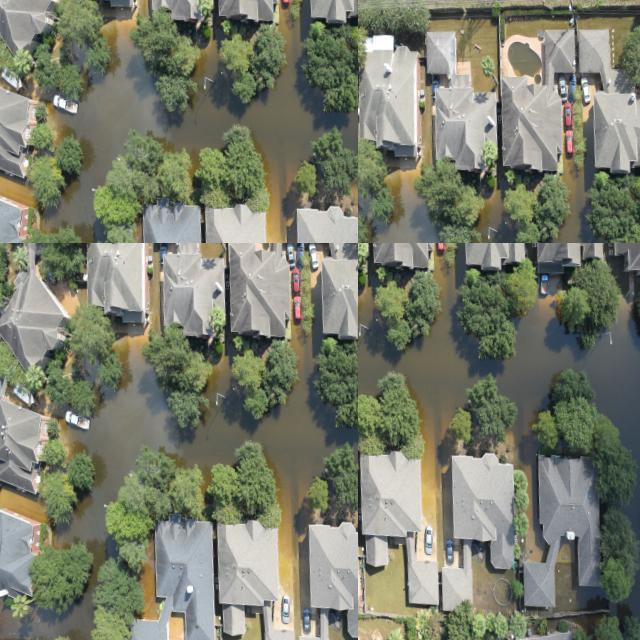fire: (358, 243, 640, 567), (171, 0, 358, 243)
